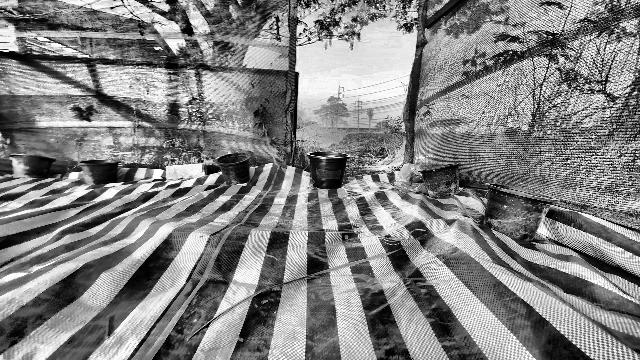pot: (483, 182, 557, 242), (306, 151, 352, 189), (418, 162, 461, 197), (215, 150, 251, 184), (11, 153, 56, 178), (77, 159, 121, 183)
